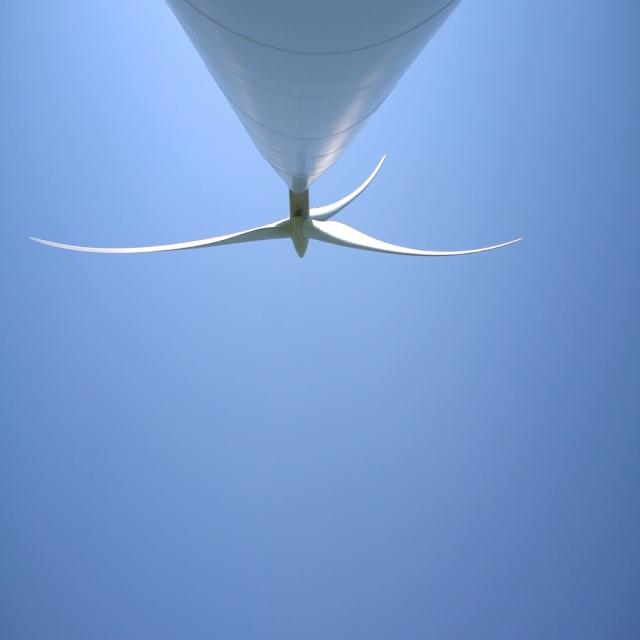blade 1: (12, 220, 272, 292)
blade 2: (332, 224, 536, 272)
blade 3: (338, 154, 392, 214)
